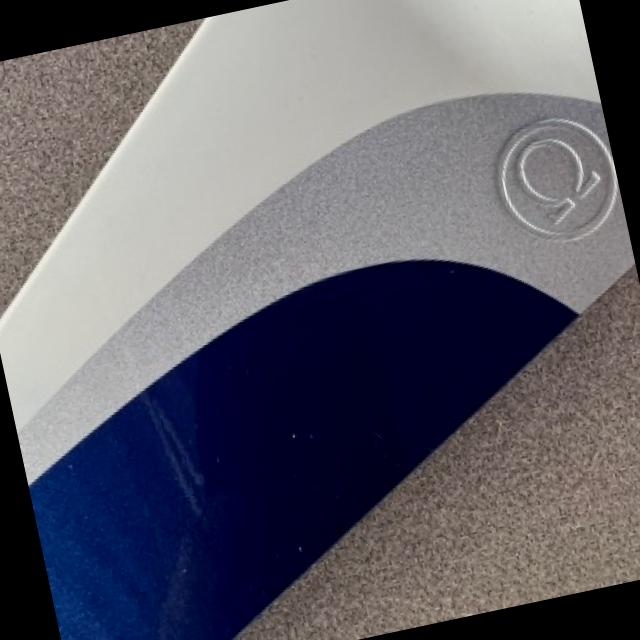healthy: (228, 264, 640, 640), (0, 19, 197, 307)
